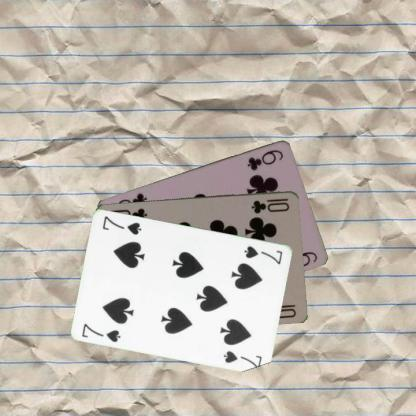10c: (249, 195, 291, 215)
6c: (244, 146, 285, 172)
7s: (79, 321, 123, 343), (242, 243, 284, 266)
